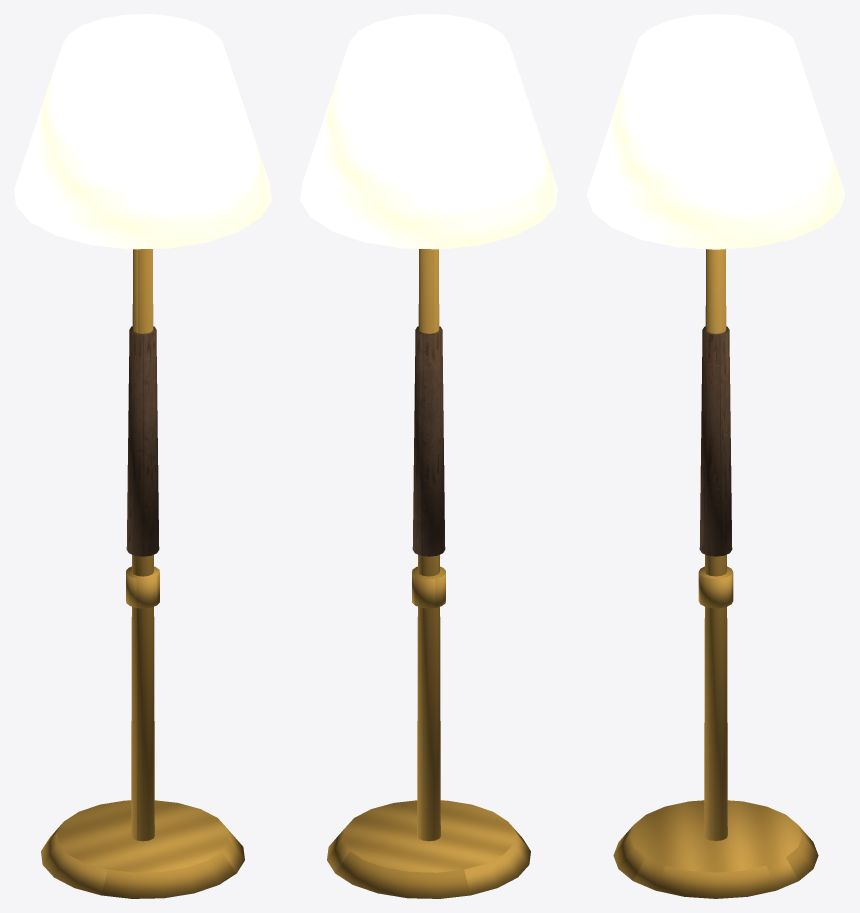
Rendered from lampara_pie.glb.
The picture shows the model from 3 angles, left to right: view 1: azimuth 30°, elevation 25°; view 2: azimuth 150°, elevation 25°; view 3: azimuth 270°, elevation 25°; orthographic projection.
Visible parts, largest first — view 1: lampara_pie; view 2: lampara_pie; view 3: lampara_pie.
Part boxes in pixels (<box>): lampara_pie: <box>14,14,271,898</box>; lampara_pie: <box>300,14,557,898</box>; lampara_pie: <box>586,14,845,898</box>.
Size of the model in its own units: 0.48 by 1.65 by 0.48.
3 materials, 3 textured.
